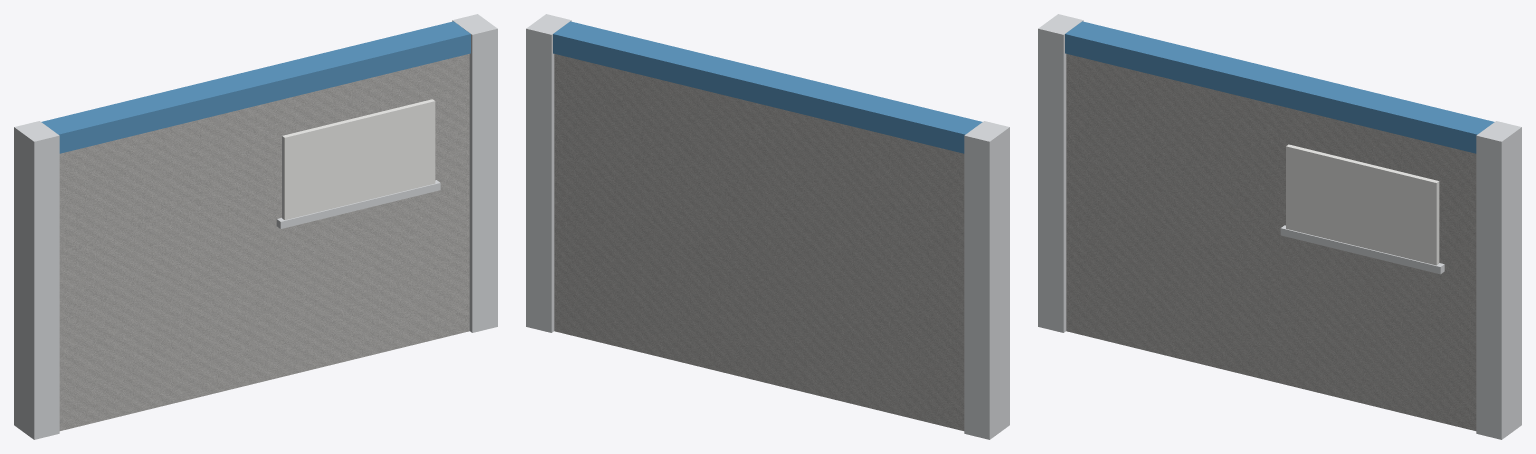
File: shipyard-and-dry-dock-shipyard-and-dry-dock-yard-bound-98c45921__37921.glb
3 views of the same model, side by side, from view 1: azimuth 30°, elevation 25°; view 2: azimuth 150°, elevation 25°; view 3: azimuth 330°, elevation 25° (orthographic).
Parts seen in each view (by area): view 1: shipyard-and-dry-dock-yard-boundary-panel; view 2: shipyard-and-dry-dock-yard-boundary-panel; view 3: shipyard-and-dry-dock-yard-boundary-panel.
Part boxes in pixels (x1,y1,x2,y2): shipyard-and-dry-dock-yard-boundary-panel: [14, 14, 497, 439]; shipyard-and-dry-dock-yard-boundary-panel: [526, 14, 1009, 439]; shipyard-and-dry-dock-yard-boundary-panel: [1038, 14, 1521, 439].
Size of the model in its own units: 4 by 2.46 by 0.3298.
4 materials, 1 textured.
